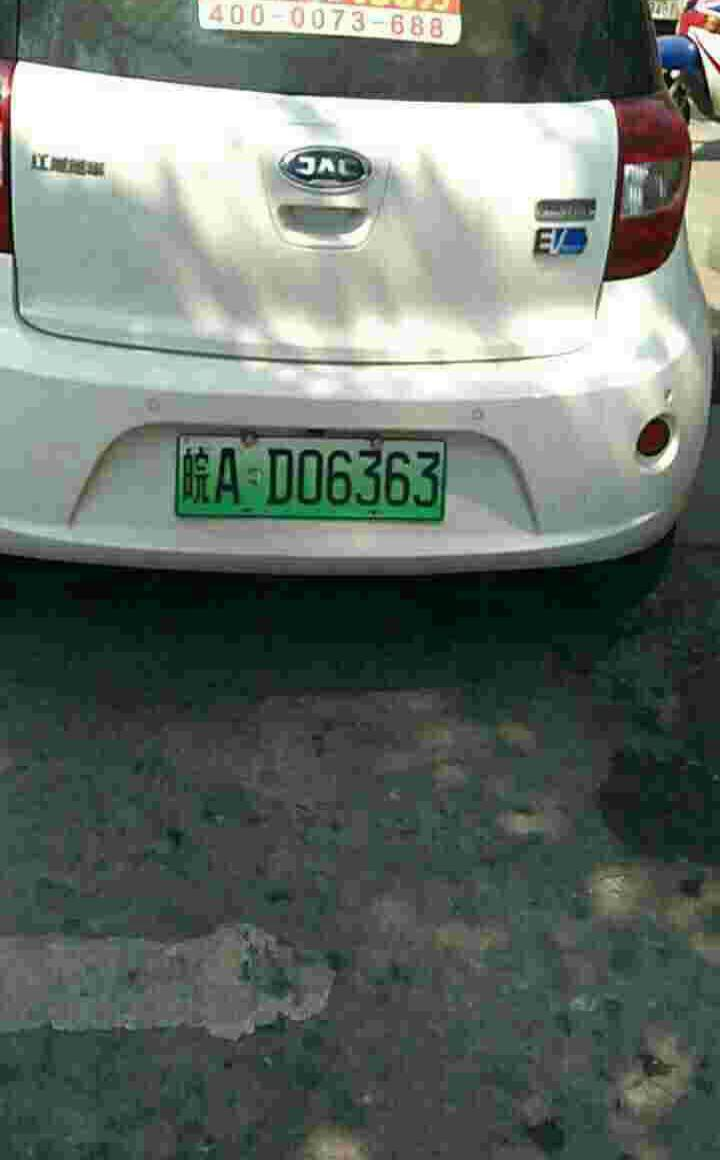car_green: (174, 426, 451, 526)
